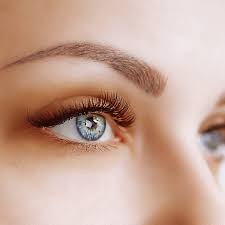pupil: (76, 115, 106, 141)
